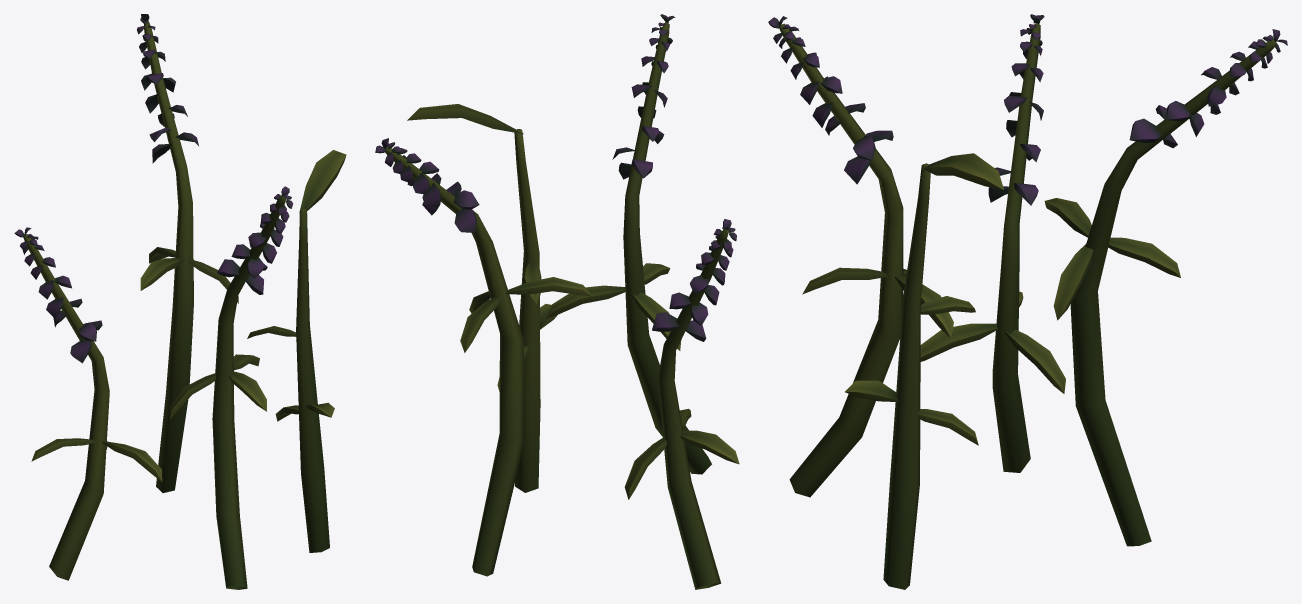
The model's file is SM_Plant_Sage_Dead.fbx.
3 renders of one model, left to right at view 1: azimuth 30°, elevation 25°; view 2: azimuth 150°, elevation 25°; view 3: azimuth 270°, elevation 25°, orthographic. The views are drawn at different scales.
Visible parts, largest first — view 1: SM_Plant_Sage_Dead; view 2: SM_Plant_Sage_Dead; view 3: SM_Plant_Sage_Dead.
Boxes of the visible parts, x1,y1,x2,y2 form: SM_Plant_Sage_Dead: [14, 14, 346, 589]; SM_Plant_Sage_Dead: [375, 14, 739, 589]; SM_Plant_Sage_Dead: [768, 14, 1287, 589].
Size of the model in its own units: 37.74 by 51.13 by 43.38.
